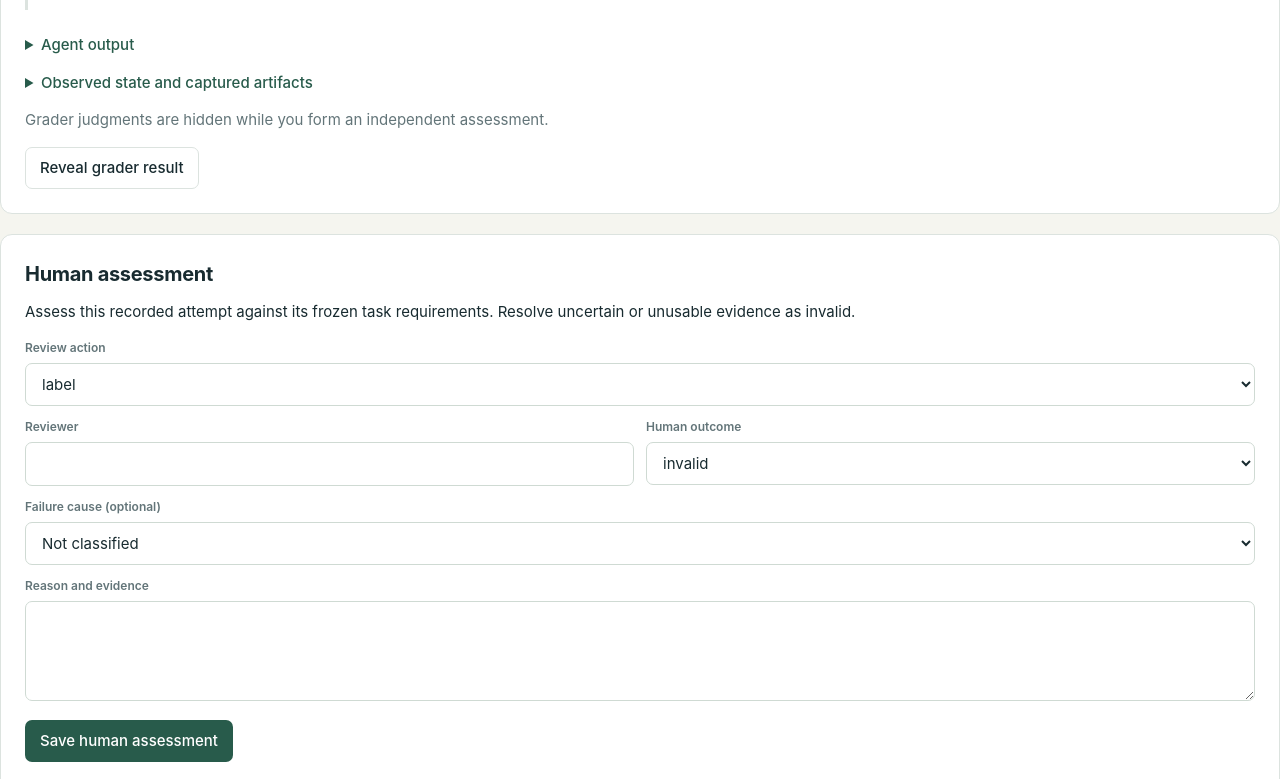
Scenario: human improvement workflows › Given conflicting human labels, When adjudicating, Then binds the decision to both evidence and the displayed label set
The image size is (1280, 779).
(page scrolled)
Select "adjudicate" in the dropdown labelled "Review action": (640, 384) x1=25 y1=362 x2=1255 y2=406
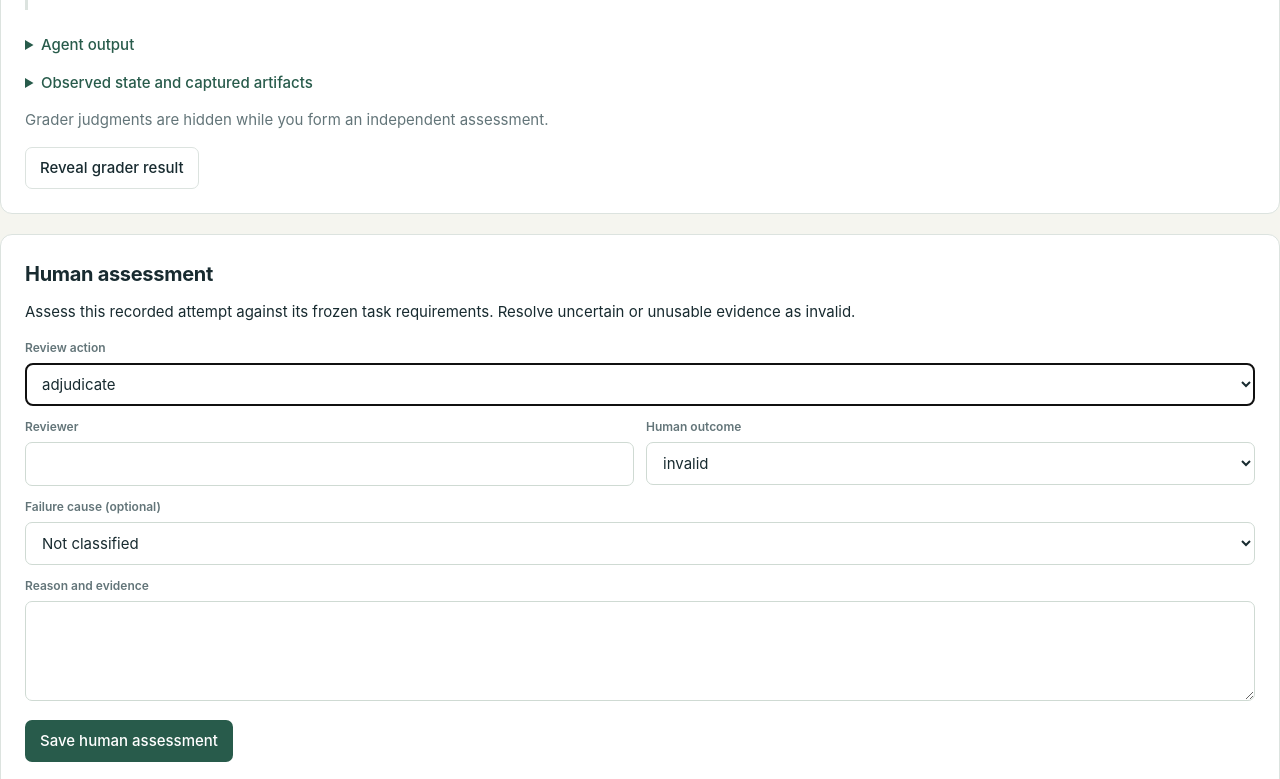
In the field labelled "Reviewer": (330, 464) x1=25 y1=442 x2=634 y2=486, type "Lead"
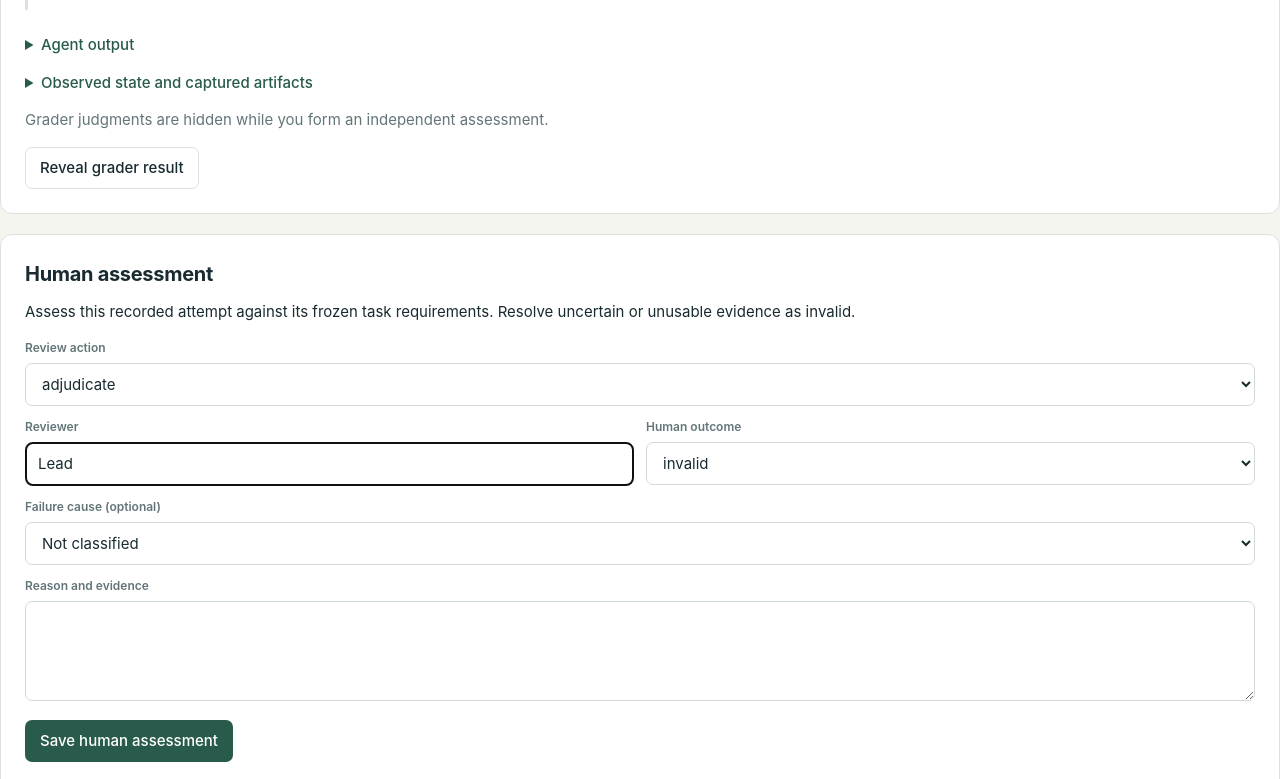
Select "invalid" in the dropdown labelled "Human outcome": (950, 464) x1=646 y1=442 x2=1255 y2=485
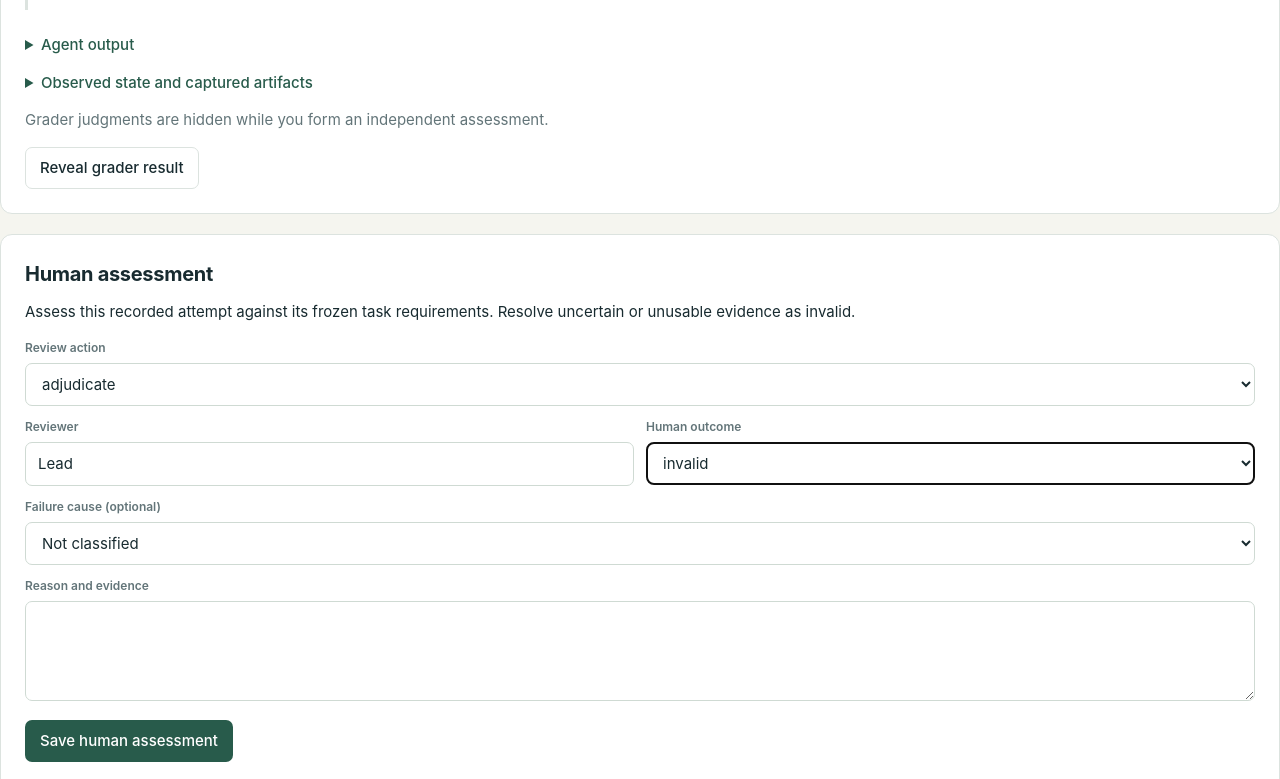
In the text box labelled "Reason and evidence": (640, 651) x1=25 y1=601 x2=1255 y2=701, type "Observer service was unavailable."
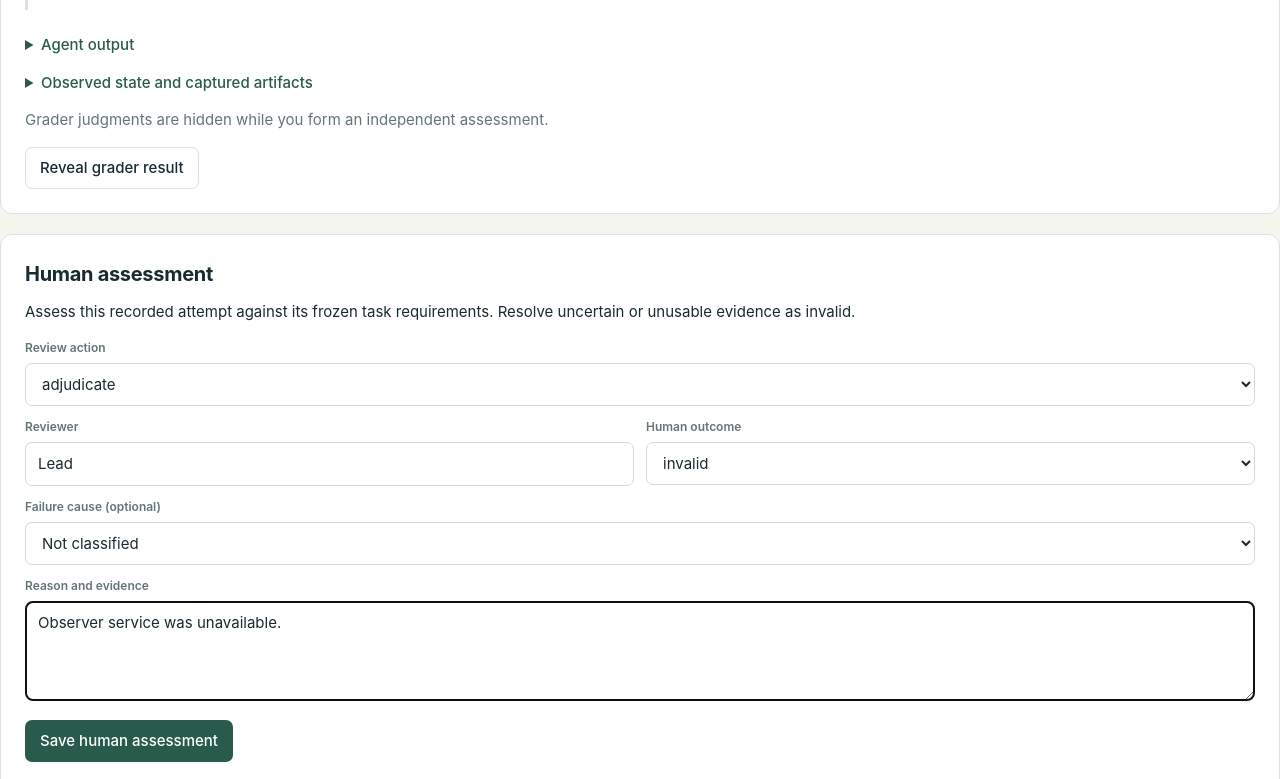
Click the button "Save human assessment": (129, 741) x1=25 y1=720 x2=233 y2=762
(page scrolled)
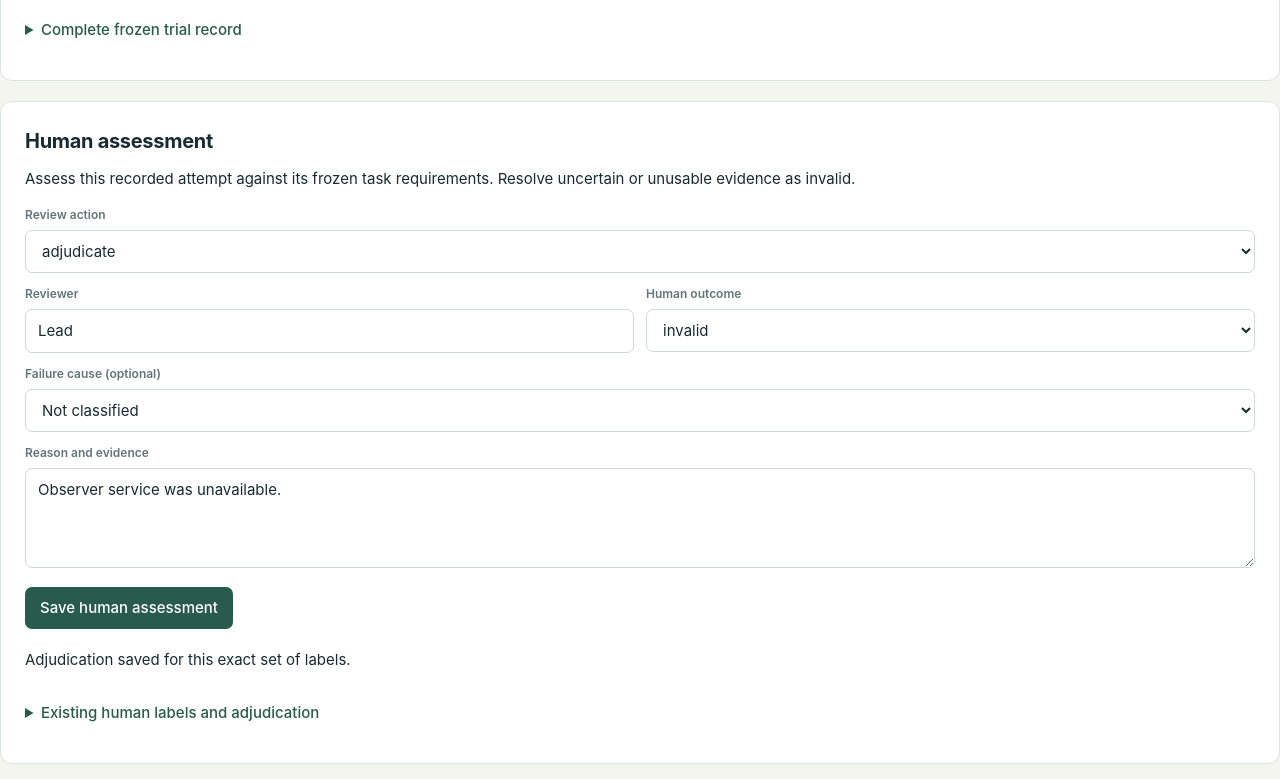
Now the text "Adjudication saved for this exact set of labels." is shown, box x1=25 y1=650 x2=351 y2=669
